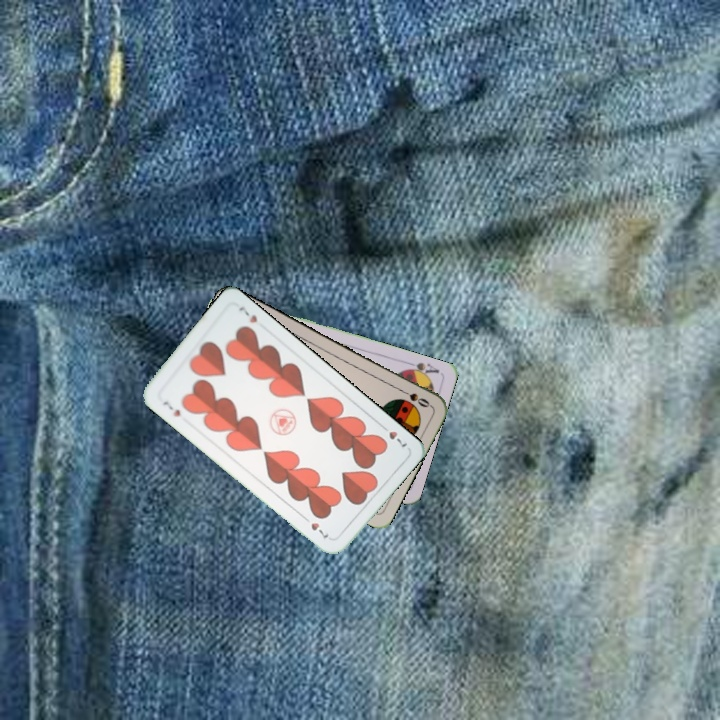H7: (376, 420, 410, 451), (159, 397, 183, 419)
SA: (400, 357, 442, 381)
SO: (396, 385, 433, 410)
